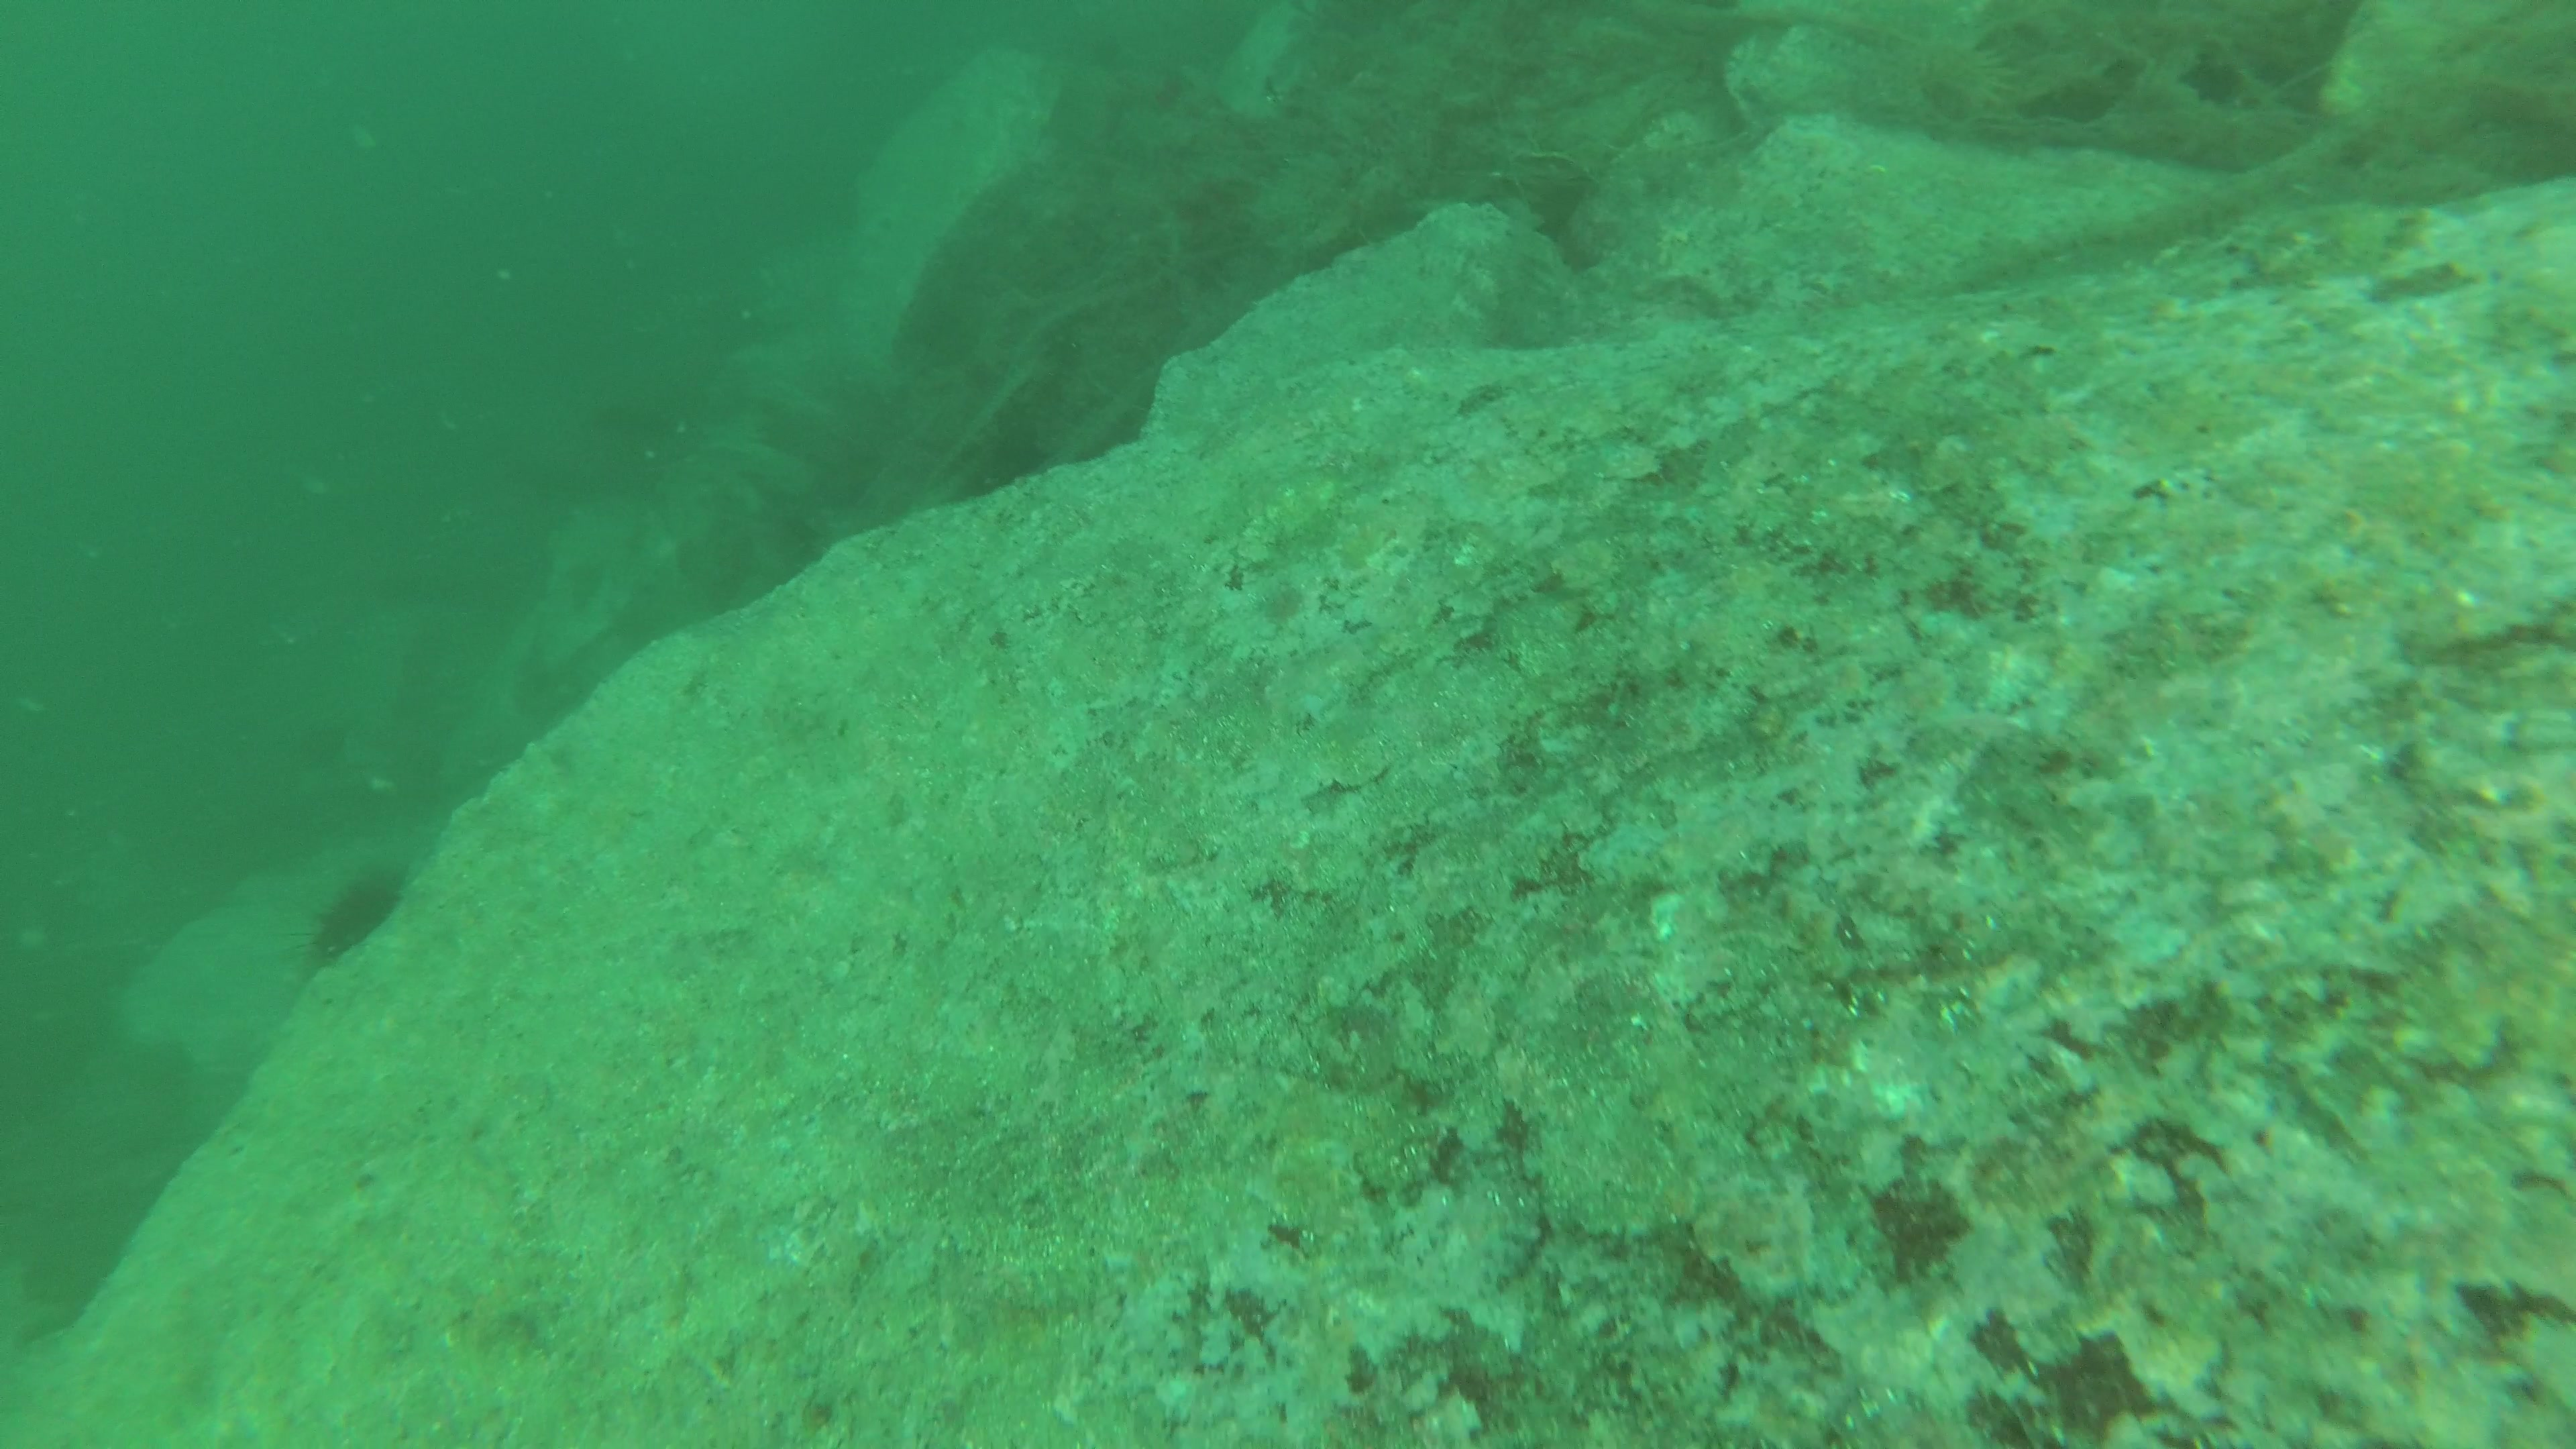echinus: (294, 863, 410, 959)
